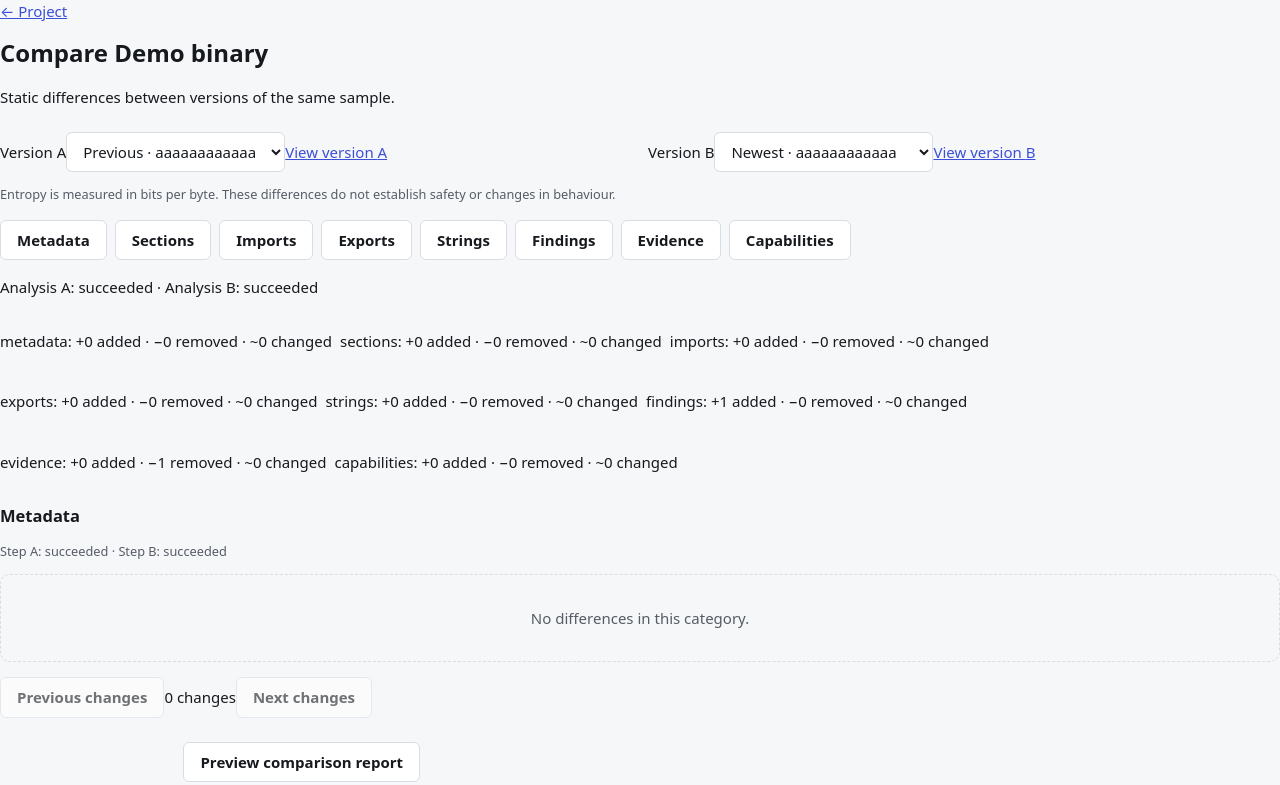
Test case: Version comparison › switches category buttons and links findings and evidence to their source runs
Expected: the text "No differences in this category." is shown, [0,574,1279,662]
What coordinates should you click on to do the following:
click the button "Findings"
I would click on:
 (564, 240)
Its box is [515,220,612,260].
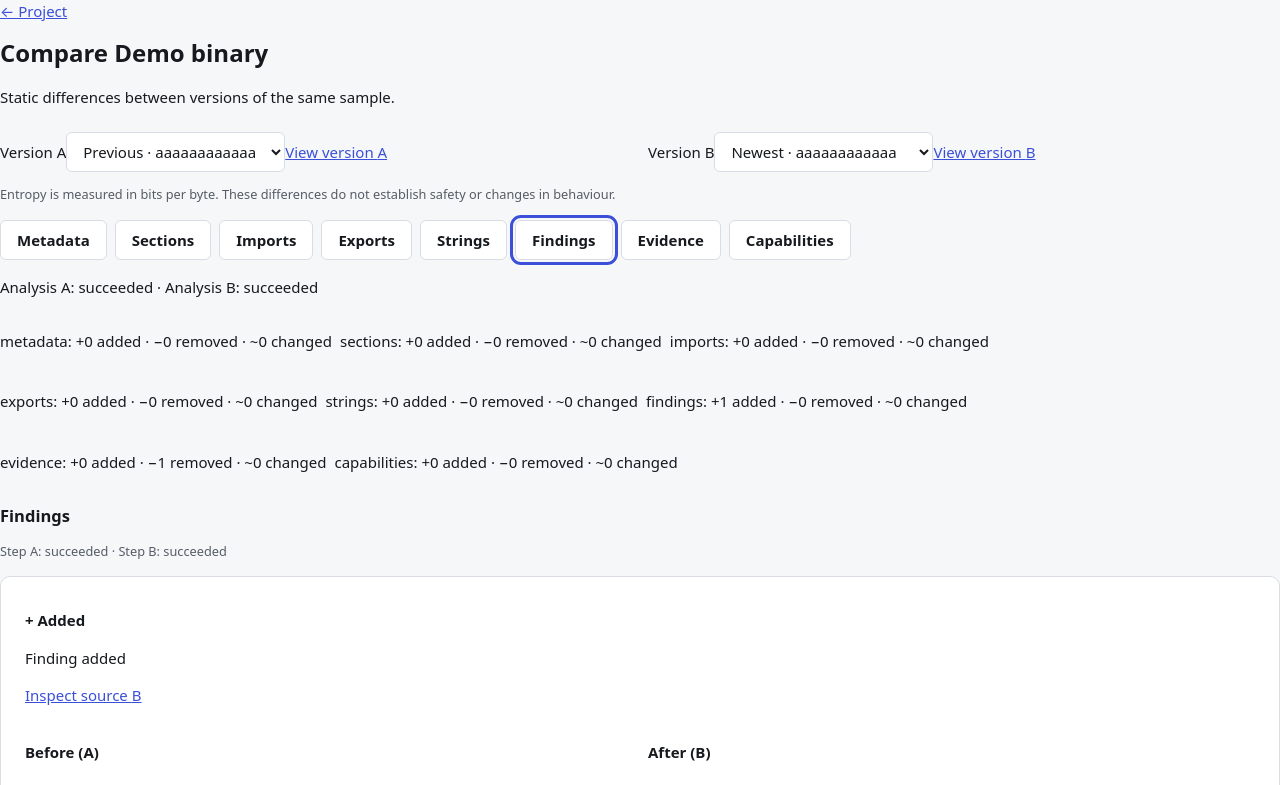
Result: the text "Finding added" is shown at [25,648,126,668]
What coordinates should you click on to do the following:
click the button "Evidence"
I would click on:
 (671, 240)
Its box is [620,220,721,260].
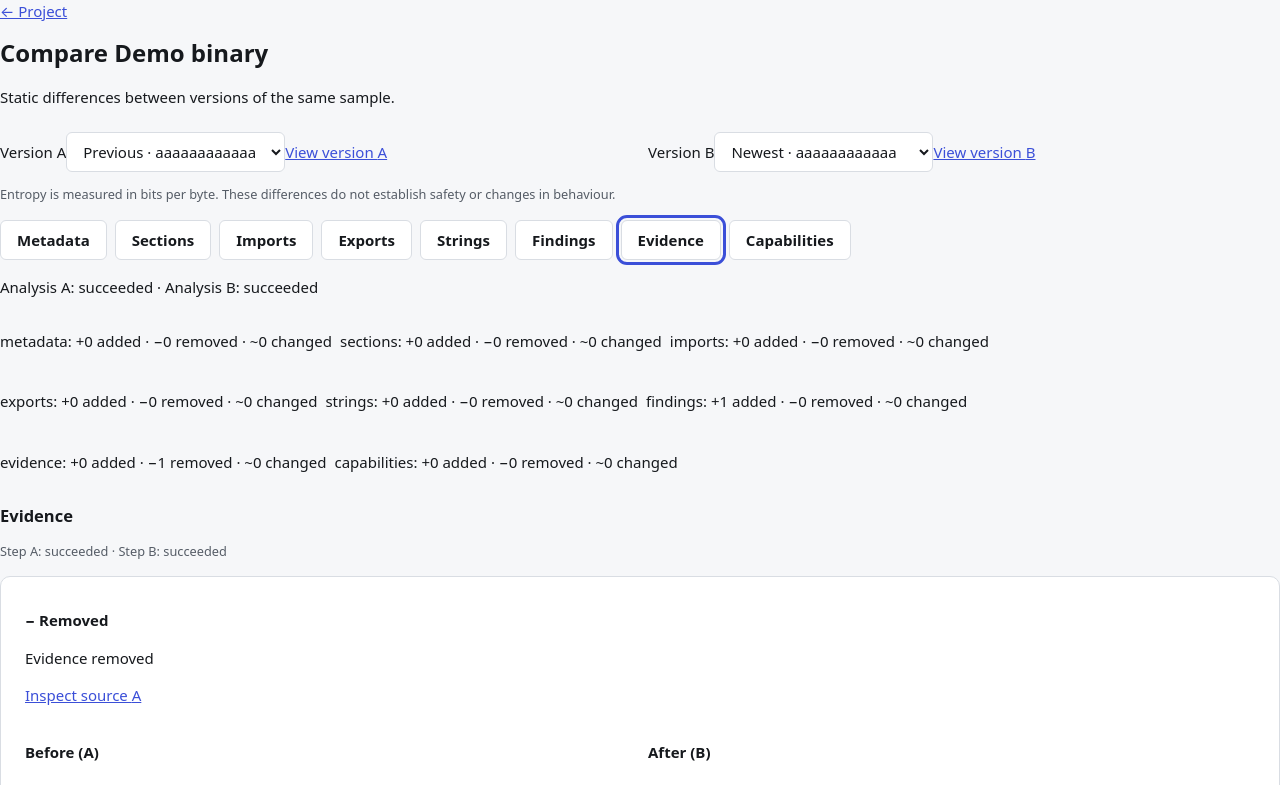
Result: the text "Evidence removed" is shown at [25,648,154,668]
